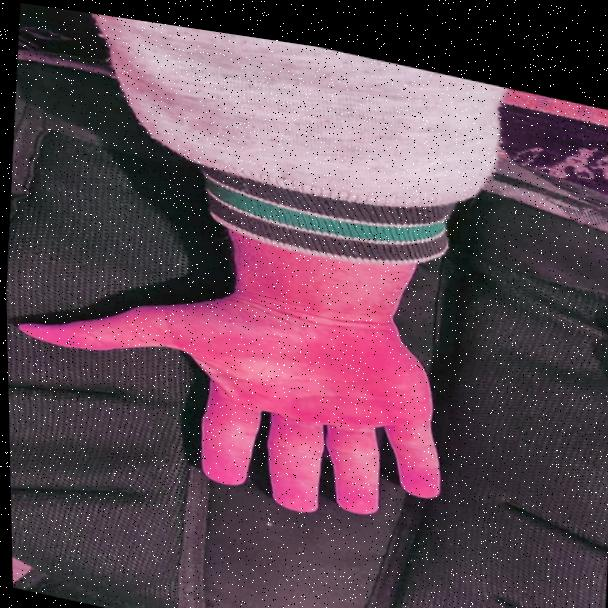five: (5, 256, 460, 535)
